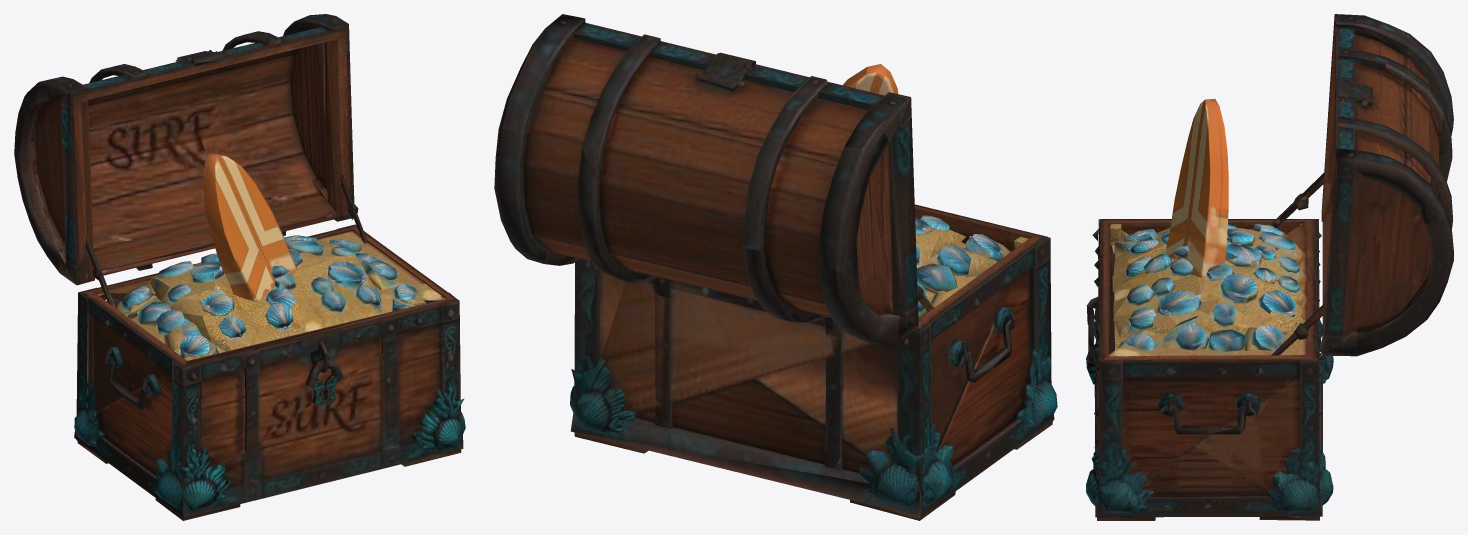
The model's file is chest.glb.
The picture shows the model from 3 angles, left to right: view 1: azimuth 30°, elevation 25°; view 2: azimuth 150°, elevation 25°; view 3: azimuth 270°, elevation 25°; orthographic projection. The views are drawn at different scales.
Parts seen in each view (by area): view 1: mesh_node; view 2: mesh_node; view 3: mesh_node.
Boxes of the visible parts, left/top/right/bottom form: mesh_node: left=14, top=14, right=465, bottom=520; mesh_node: left=494, top=14, right=1057, bottom=520; mesh_node: left=1086, top=14, right=1453, bottom=520.
Bounding box in the file's own units: 0.9102 × 0.998 × 0.9121.
Materials: 1 (1 with a texture image).
